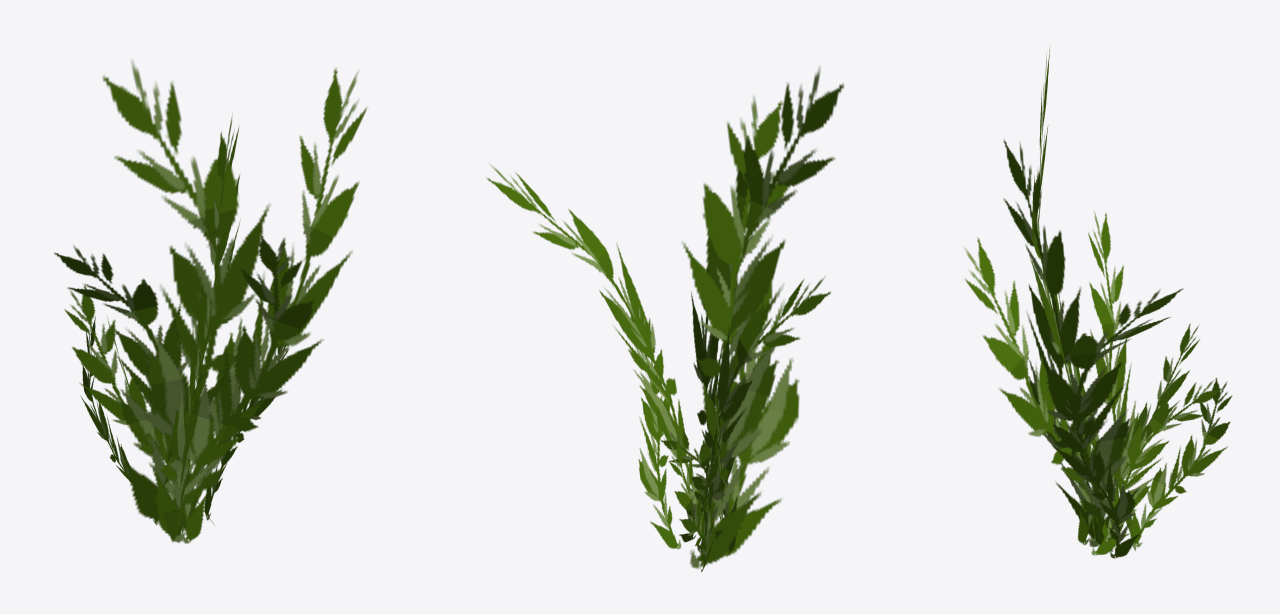
File: Plant_5.glb
3 renders of one model, left to right at view 1: azimuth 30°, elevation 25°; view 2: azimuth 150°, elevation 25°; view 3: azimuth 270°, elevation 25°, orthographic. The views are drawn at different scales.
Parts seen in each view (by area): view 1: Plant_5; view 2: Plant_5; view 3: Plant_5.
Part boxes in pixels (bbox=[...]): Plant_5: bbox=[54, 60, 366, 543]; Plant_5: bbox=[486, 67, 843, 572]; Plant_5: bbox=[964, 49, 1232, 558].
Bounding box in the file's own units: 0.854 × 1.19 × 0.7173.
Materials: 1 (1 with a texture image).
